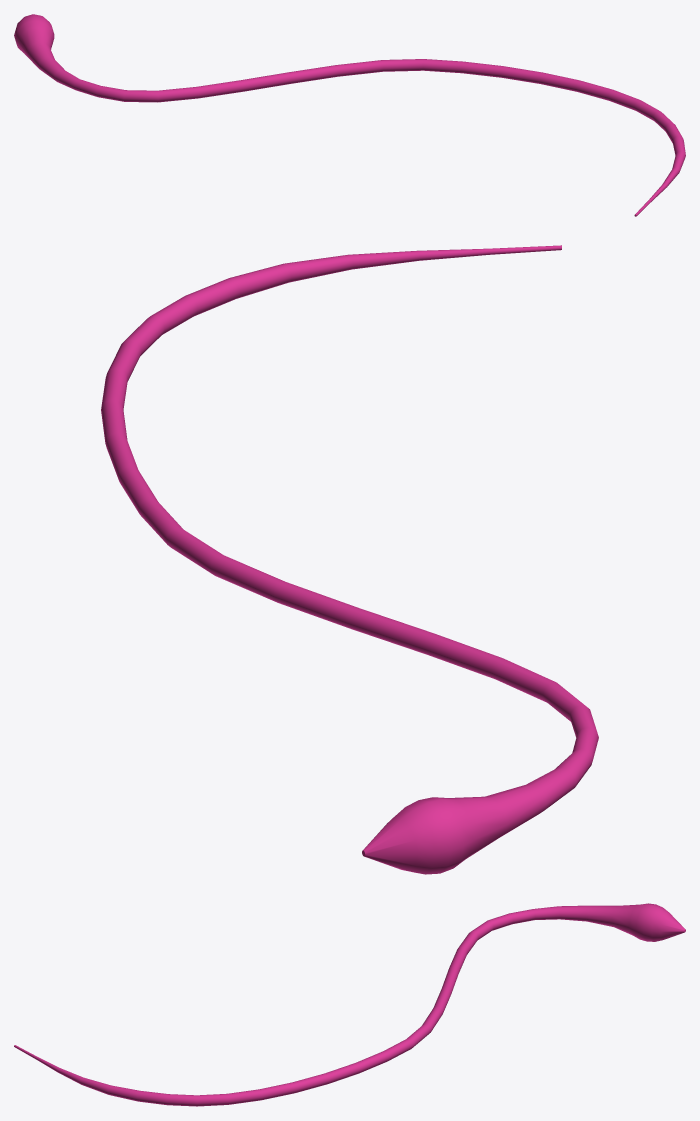
Rendered from Snake_4.fbx.
The picture shows the model from 3 angles, top to bottom: view 1: azimuth 30°, elevation 25°; view 2: azimuth 150°, elevation 25°; view 3: azimuth 270°, elevation 25°; orthographic projection. The views are drawn at different scales.
Visible parts, largest first — view 1: Snake_4; view 2: Snake_4; view 3: Snake_4.
Part boxes in pixels (x1,y1,x2,y2): Snake_4: [14, 14, 685, 216]; Snake_4: [101, 245, 598, 874]; Snake_4: [14, 903, 685, 1106].
Size of the model in its own units: 155 by 12.98 by 228.
